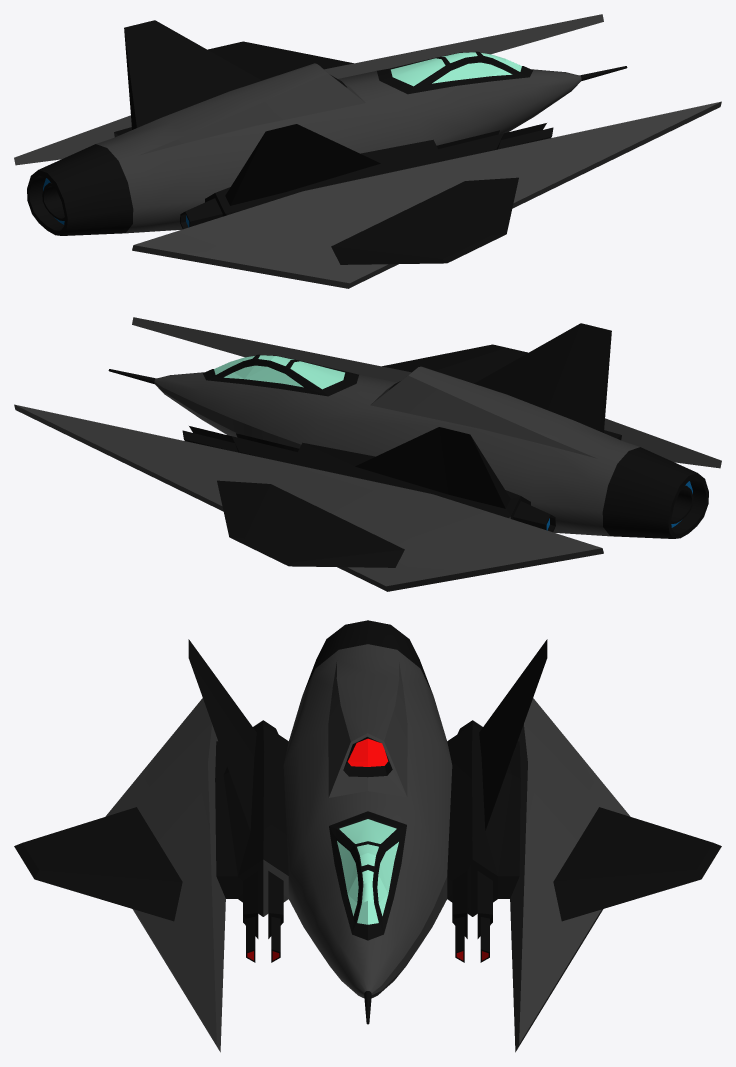
Rendered from SM_PlayershipType3.FBX.
The picture shows the model from 3 angles, top to bottom: view 1: azimuth 30°, elevation 25°; view 2: azimuth 150°, elevation 25°; view 3: azimuth 270°, elevation 25°; orthographic projection. The views are drawn at different scales.
Visible parts, largest first — view 1: Box001; view 2: Box001; view 3: Box001.
Boxes of the visible parts, x1,y1,x2,y2 form: Box001: [14, 14, 721, 288]; Box001: [14, 317, 721, 591]; Box001: [14, 620, 721, 1052].
Bounding box in the file's own units: 100 × 24.22 × 78.99.
